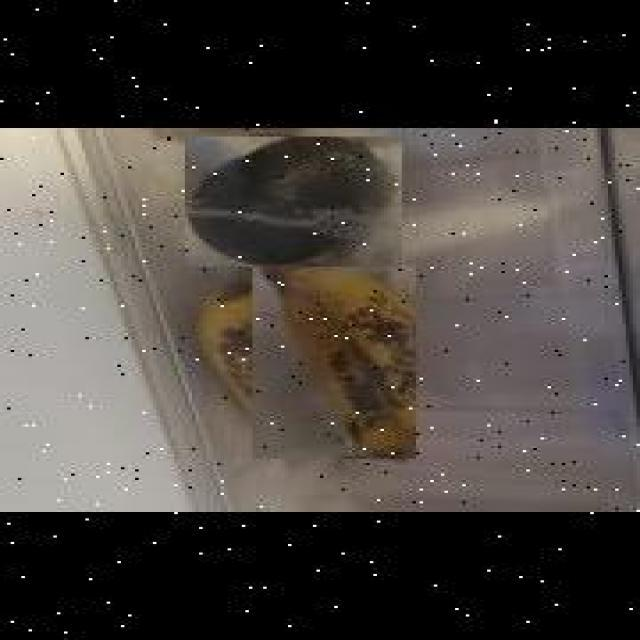avocado: (182, 136, 398, 266)
banana: (188, 286, 394, 465), (247, 264, 411, 458)
